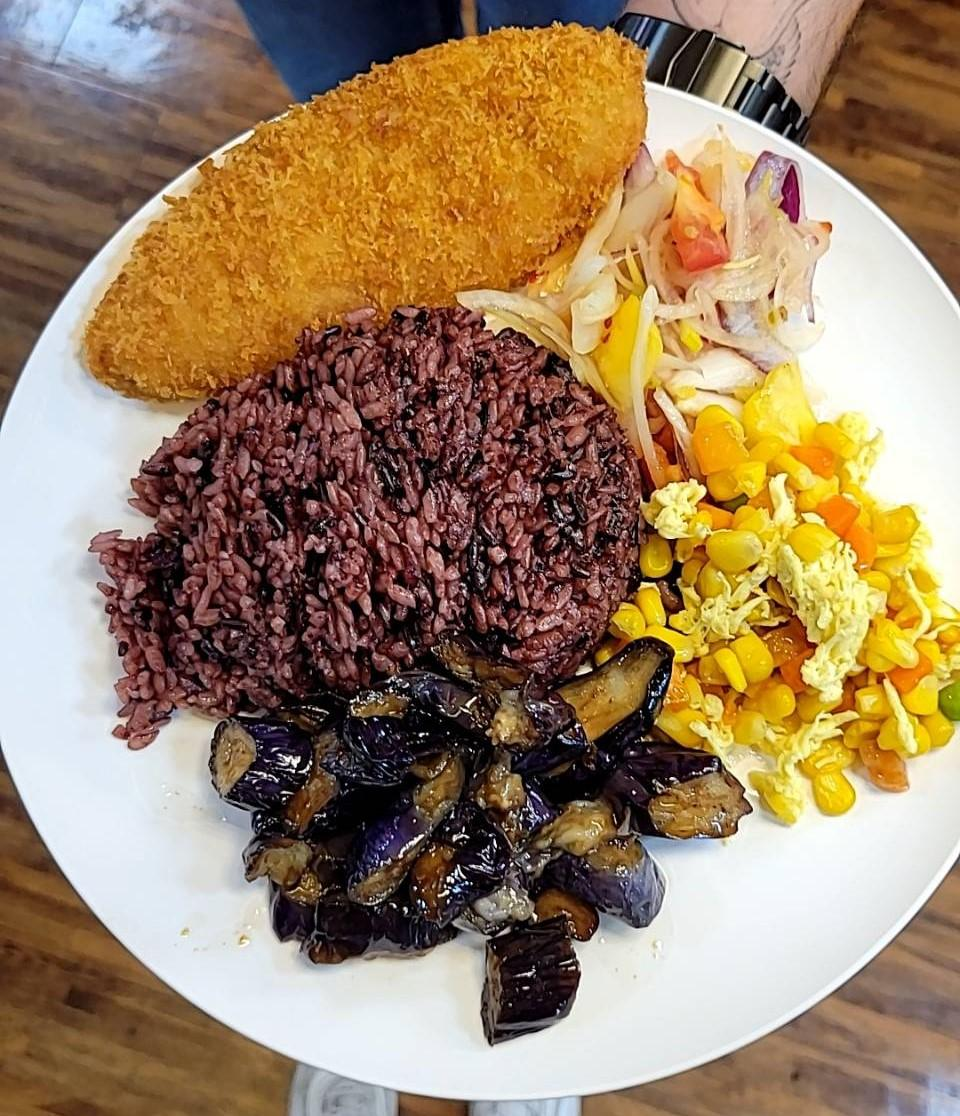big fried chicken leg: (15, 35, 960, 1100)
braised fish: (83, 308, 633, 736)
braised fish fillet: (195, 633, 726, 1056), (638, 393, 960, 802), (533, 146, 816, 432)
braised pork: (73, 23, 648, 406)
